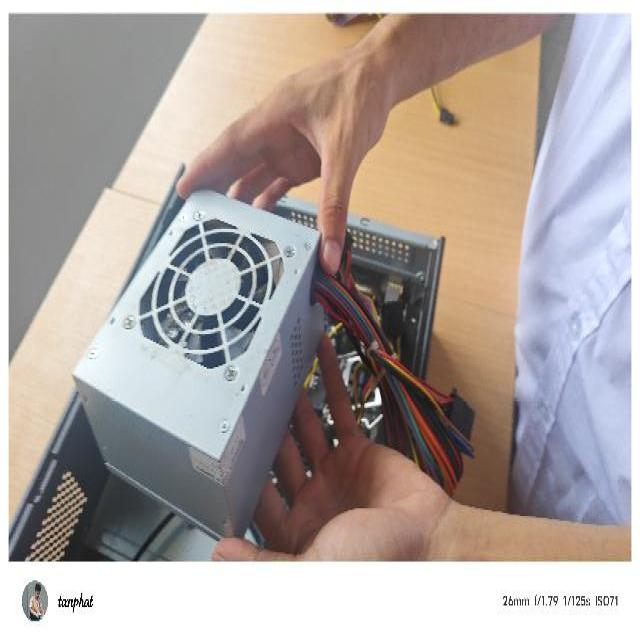PSU: (70, 176, 388, 546)
